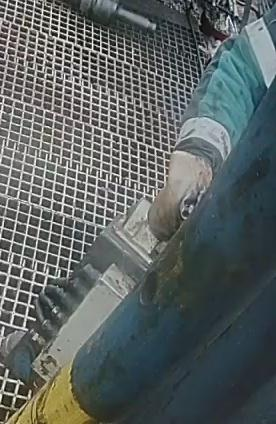gloves: (146, 150, 213, 241)
